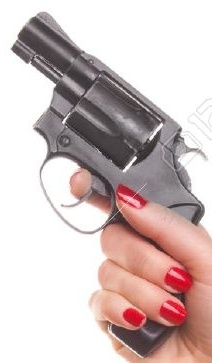pistol: (2, 2, 210, 363)
